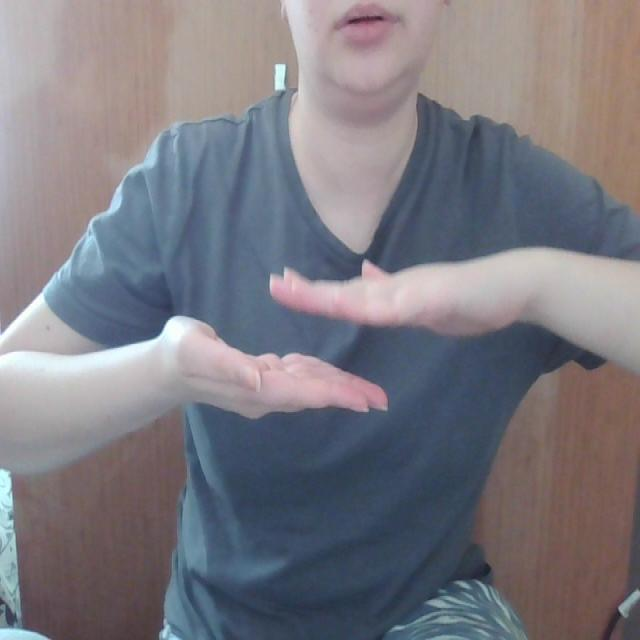Arkadas: (0, 232, 640, 433)
